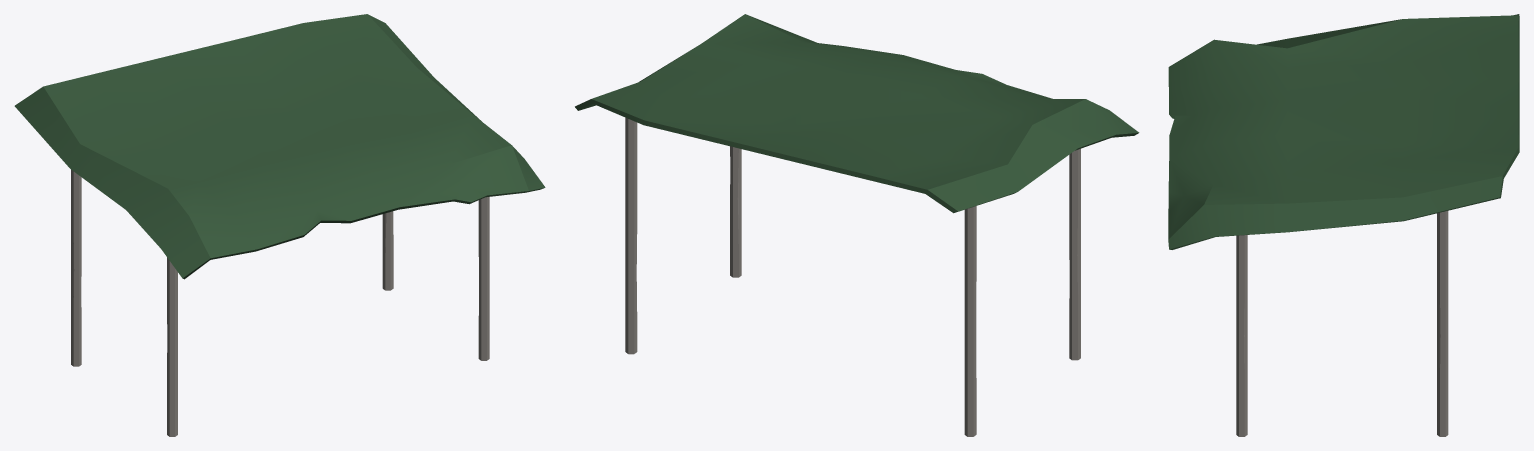
File: SM_Env_Stall_09.fbx
3 renders of one model, left to right at view 1: azimuth 30°, elevation 25°; view 2: azimuth 150°, elevation 25°; view 3: azimuth 270°, elevation 25°, orthographic. The views are drawn at different scales.
Visible parts, largest first — view 1: SM_Env_Stall_09; view 2: SM_Env_Stall_09; view 3: SM_Env_Stall_09.
Boxes of the visible parts, x1,y1,x2,y2 form: SM_Env_Stall_09: [14, 14, 545, 436]; SM_Env_Stall_09: [575, 14, 1139, 436]; SM_Env_Stall_09: [1168, 14, 1519, 436].
Size of the model in its own units: 263 by 173 by 210.
Materials: 1 (1 with a texture image).
